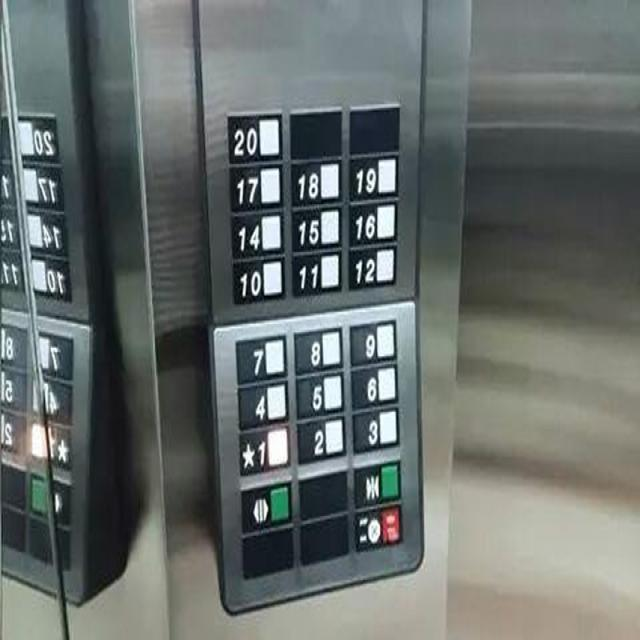10: (229, 253, 285, 306)
11: (288, 244, 342, 297)
12: (346, 238, 397, 290)
14: (228, 206, 284, 258)
15: (288, 200, 342, 252)
16: (345, 195, 398, 248)
17: (226, 159, 283, 213)
18: (288, 155, 342, 205)
19: (346, 148, 399, 203)
2: (294, 412, 347, 464)
20: (224, 108, 284, 164)
3: (349, 402, 400, 454)
4: (236, 374, 290, 429)
5: (293, 367, 345, 420)
6: (348, 356, 398, 409)
7: (233, 329, 288, 384)
8: (292, 322, 344, 374)
9: (348, 316, 397, 367)
close: (350, 456, 401, 507)
empty: (286, 104, 344, 161), (296, 507, 351, 565), (240, 520, 294, 579), (347, 99, 401, 157), (294, 463, 348, 521)
open: (239, 473, 293, 538)
s1: (236, 420, 291, 475)
stop: (352, 500, 406, 556)
